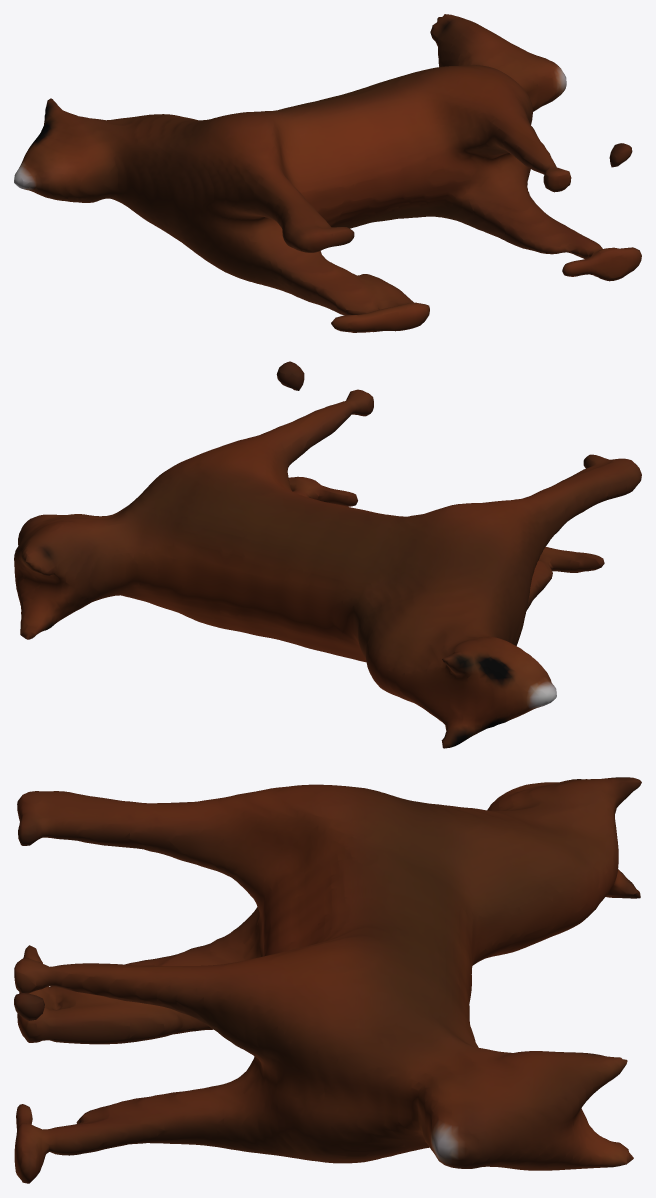
The model's file is dog.FBX.
The picture shows the model from 3 angles, top to bottom: view 1: azimuth 30°, elevation 25°; view 2: azimuth 150°, elevation 25°; view 3: azimuth 270°, elevation 25°; orthographic projection. The views are drawn at different scales.
Visible parts, largest first — view 1: plyFile; view 2: plyFile; view 3: plyFile.
Part boxes in pixels (x1,y1,x2,y2): plyFile: (14,14,641,332); plyFile: (14,361,641,748); plyFile: (14,777,641,1183).
Bounding box in the file's own units: 197 × 55.12 × 145.
